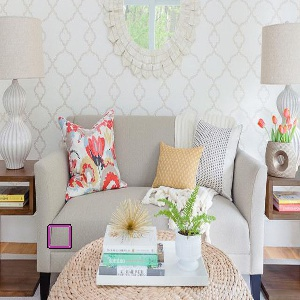square: (45, 222, 74, 251)
